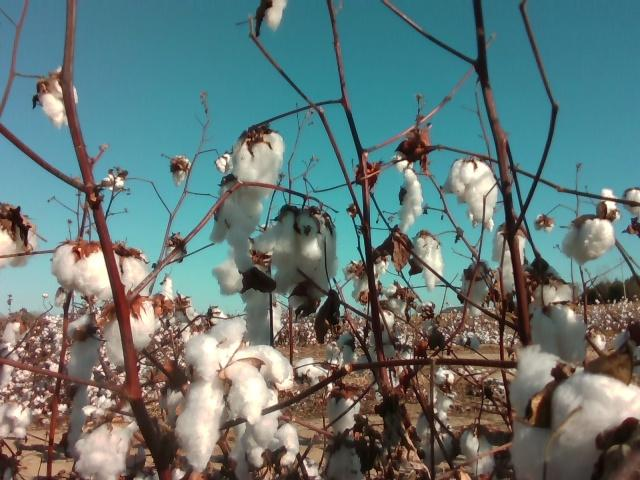cotton_ready: (179, 317, 288, 469), (538, 375, 640, 480), (510, 344, 584, 480), (251, 210, 337, 295), (211, 260, 283, 345), (231, 388, 298, 476), (211, 192, 265, 261), (67, 316, 101, 425), (232, 132, 285, 198), (105, 300, 157, 367), (449, 156, 500, 224), (52, 242, 113, 297), (531, 304, 584, 361), (75, 425, 129, 480), (37, 68, 80, 127), (491, 227, 528, 295), (562, 217, 616, 262), (0, 210, 39, 267), (324, 434, 368, 480), (397, 158, 424, 231), (414, 236, 444, 294), (460, 260, 491, 316), (274, 358, 328, 390), (113, 248, 150, 290), (466, 434, 503, 475), (421, 425, 459, 464), (326, 394, 363, 434), (0, 404, 33, 440), (533, 279, 575, 304), (603, 188, 620, 221), (624, 190, 640, 217)
